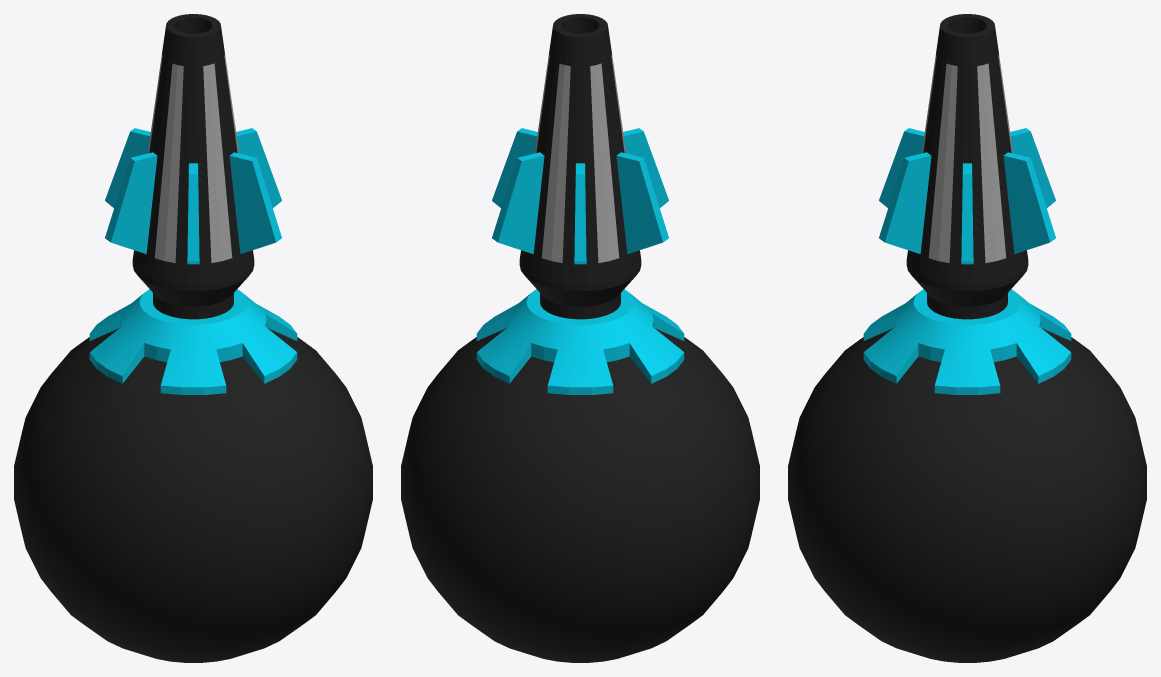
Rendered from SM_BattleshipTurretCannons.fbx.
3 views of the same model, side by side, from view 1: azimuth 30°, elevation 25°; view 2: azimuth 150°, elevation 25°; view 3: azimuth 270°, elevation 25° (orthographic).
Parts seen in each view (by area): view 1: Sphere001; view 2: Sphere001; view 3: Sphere001.
Boxes of the visible parts, box(x1,y1,x2,y2) form: Sphere001: box(14, 14, 372, 662); Sphere001: box(401, 14, 759, 662); Sphere001: box(788, 14, 1146, 662).
Bounding box in the file's own units: 3561 × 6835 × 3580.
